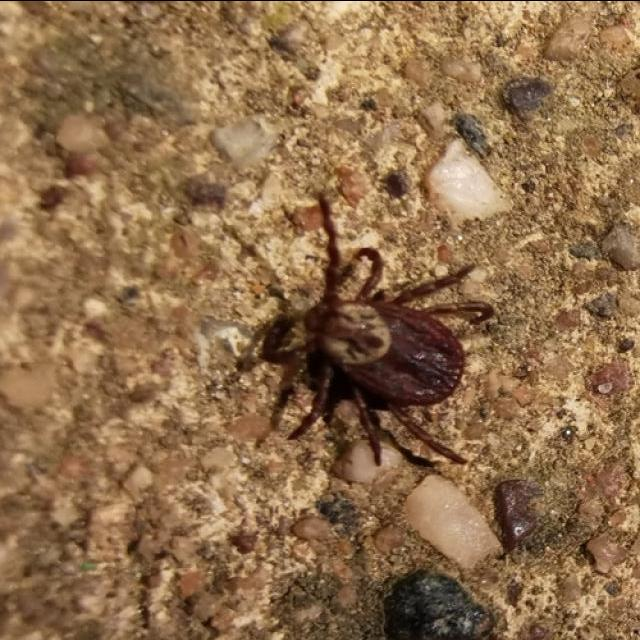Dermacentor Reticulatus-F: (260, 192, 494, 465)
